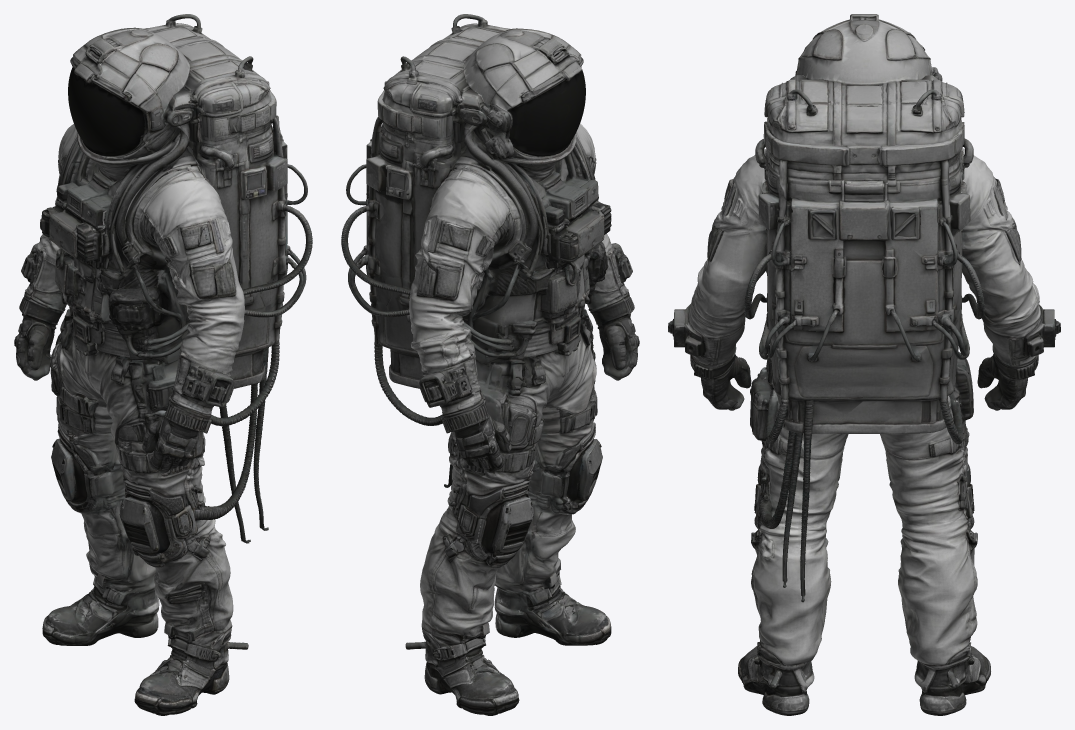
File: astronaut.glb
The picture shows the model from 3 angles, left to right: view 1: azimuth 30°, elevation 25°; view 2: azimuth 150°, elevation 25°; view 3: azimuth 270°, elevation 25°; orthographic projection. The views are drawn at different scales.
Parts seen in each view (by area): view 1: tripo_part_0, tripo_part_1, tripo_part_2, tripo_part_3, tripo_part_11, tripo_part_4, tripo_part_7, tripo_part_6, tripo_part_8, tripo_part_17, tripo_part_5, tripo_part_21 (+19 smaller); view 2: tripo_part_0, tripo_part_1, tripo_part_9, tripo_part_3, tripo_part_11, tripo_part_8, tripo_part_6, tripo_part_4, tripo_part_17, tripo_part_7, tripo_part_12, tripo_part_22 (+21 smaller); view 3: tripo_part_0, tripo_part_10, tripo_part_3, tripo_part_9, tripo_part_2, tripo_part_7, tripo_part_1, tripo_part_4, tripo_part_5, tripo_part_6, tripo_part_8, tripo_part_28 (+6 smaller).
Boxes of the visible parts, box(x1,y1,x2,y2) form: tripo_part_0: box(143, 14, 312, 356); tripo_part_1: box(58, 27, 198, 280); tripo_part_2: box(133, 165, 244, 413); tripo_part_3: box(55, 327, 155, 593); tripo_part_11: box(48, 167, 189, 365); tripo_part_4: box(103, 359, 207, 528); tripo_part_7: box(154, 519, 233, 645); tripo_part_6: box(134, 627, 248, 715); tripo_part_8: box(42, 577, 159, 645); tripo_part_17: box(68, 67, 148, 156); tripo_part_5: box(193, 349, 268, 543); tripo_part_21: box(107, 263, 188, 358); tripo_part_0: box(341, 14, 510, 282); tripo_part_1: box(455, 28, 594, 280); tripo_part_9: box(409, 164, 521, 412); tripo_part_3: box(420, 329, 584, 644); tripo_part_11: box(462, 182, 605, 365); tripo_part_8: box(405, 628, 519, 715); tripo_part_6: box(494, 575, 611, 645); tripo_part_4: box(528, 309, 597, 495); tripo_part_17: box(509, 67, 585, 157); tripo_part_7: box(495, 492, 575, 593); tripo_part_12: box(442, 394, 511, 473); tripo_part_22: box(449, 477, 531, 567); tripo_part_0: box(744, 79, 984, 399); tripo_part_10: box(784, 199, 962, 441); tripo_part_3: box(880, 352, 977, 664); tripo_part_9: box(961, 148, 1040, 365); tripo_part_2: box(687, 149, 766, 365); tripo_part_7: box(751, 518, 831, 665); tripo_part_1: box(795, 14, 942, 85); tripo_part_4: box(750, 345, 848, 530); tripo_part_5: box(758, 396, 891, 602); tripo_part_6: box(738, 640, 814, 715); tripo_part_8: box(914, 642, 990, 715); tripo_part_28: box(814, 396, 947, 433).
Bounding box in the file's own units: 0.6191 × 1.8 × 0.9611.
46 materials, 46 textured.
